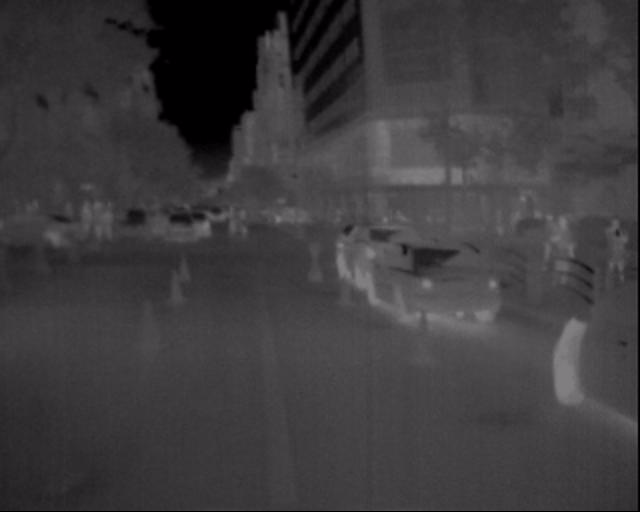person: (10, 191, 116, 246), (598, 210, 637, 294), (543, 208, 583, 287), (556, 202, 589, 272), (539, 205, 566, 276), (218, 203, 255, 246)
